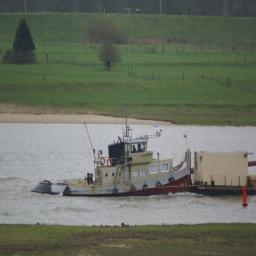tugboat: (33, 124, 203, 206)
